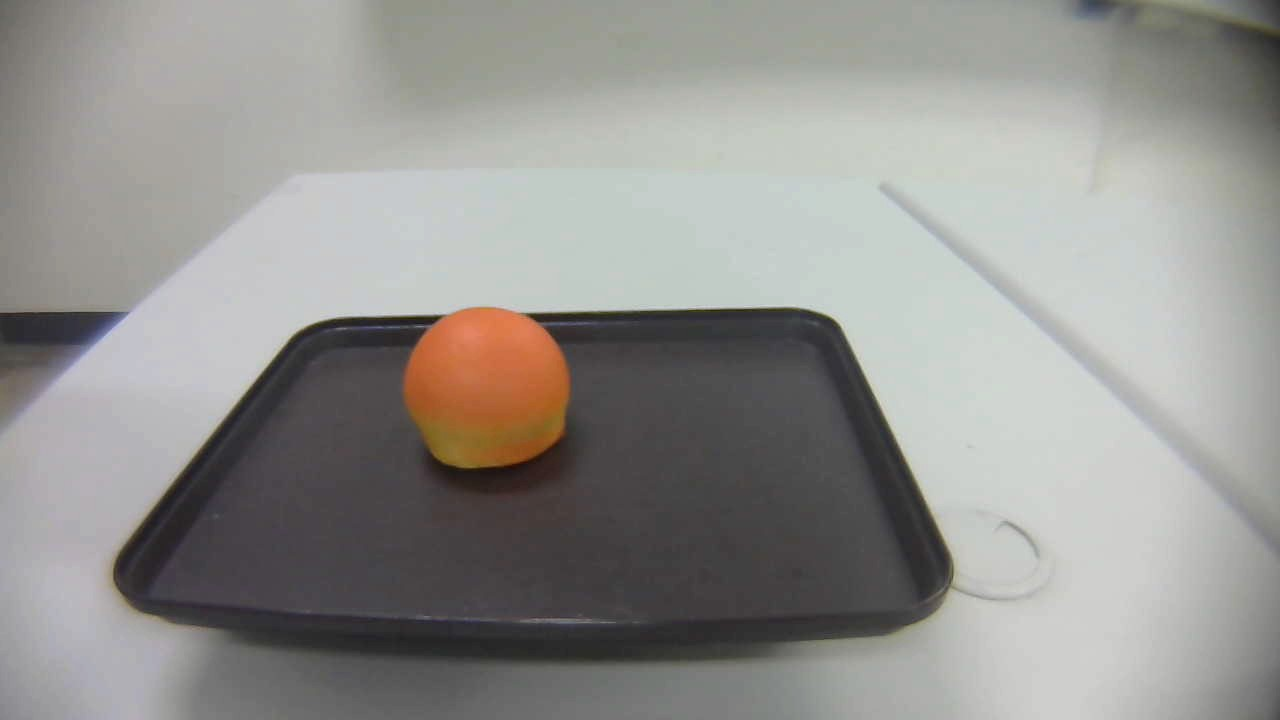bun: (402, 305, 571, 470)
